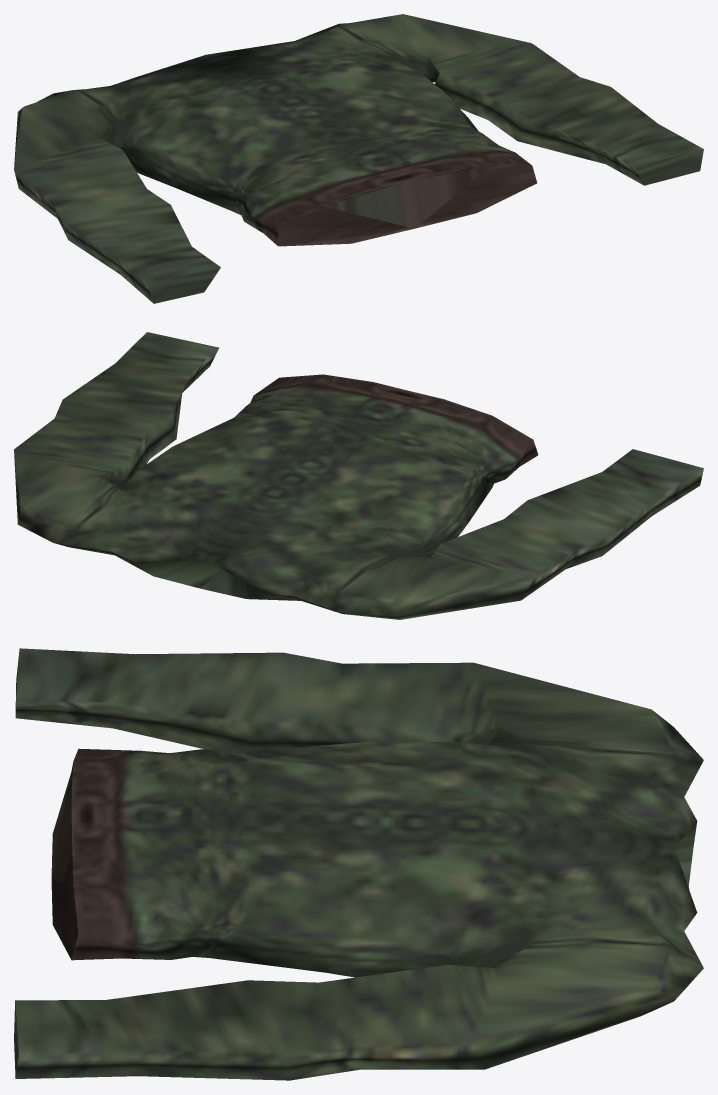
Rendered from ServiceOutfitShirtGround.fbx.
3 views of the same model, one above another, from view 1: azimuth 30°, elevation 25°; view 2: azimuth 150°, elevation 25°; view 3: azimuth 270°, elevation 25° (orthographic). The views are drawn at different scales.
Parts seen in each view (by area): view 1: ServiceOutfitShirtGround; view 2: ServiceOutfitShirtGround; view 3: ServiceOutfitShirtGround.
Part boxes in pixels (x1,y1,x2,y2): ServiceOutfitShirtGround: (14,14,703,303); ServiceOutfitShirtGround: (14,332,703,619); ServiceOutfitShirtGround: (14,648,703,1080).
Size of the model in its own units: 0.3969 by 0.0369 by 0.2858.
